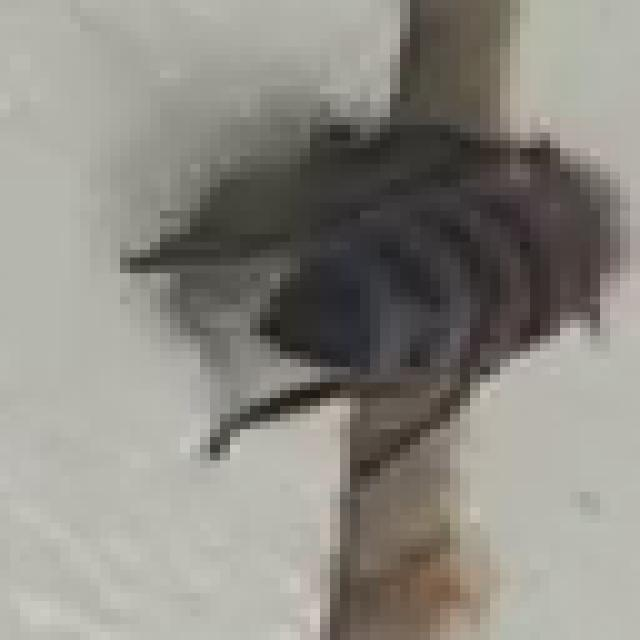honeybee: (114, 85, 635, 478)
